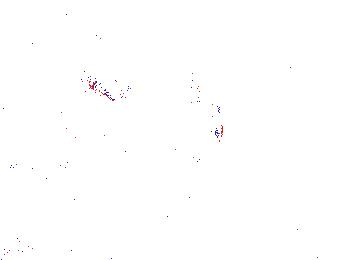glassfish: (188, 70, 226, 144)
red belly glassfish: (233, 65, 257, 83)
redtail glassfish: (86, 77, 134, 98)
